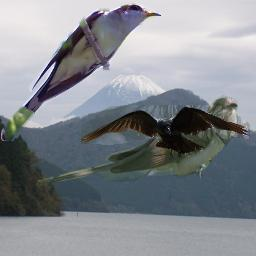Crow: (81, 105, 250, 163)
Cuckoo: (1, 3, 161, 141), (35, 95, 238, 188)
